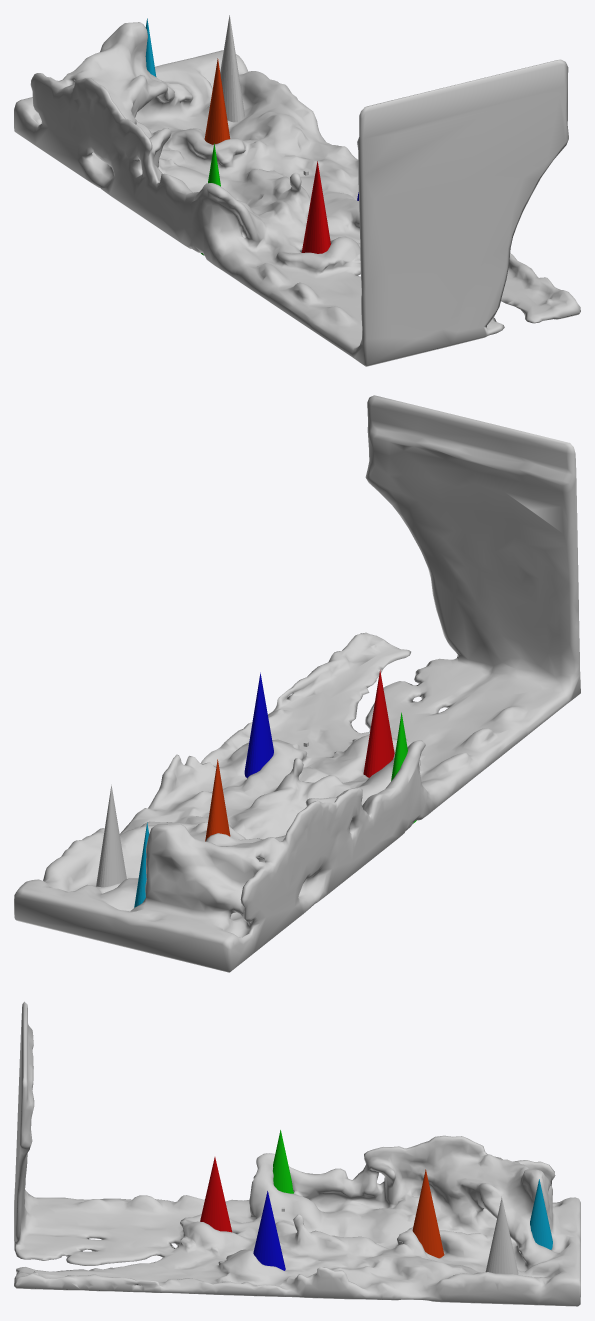
3 renders of one model, top to bottom at view 1: azimuth 30°, elevation 25°; view 2: azimuth 150°, elevation 25°; view 3: azimuth 270°, elevation 25°, orthographic. The views are drawn at different scales.
Parts seen in each view (by area): view 1: Liquid_Domain, 円錐, 円錐.001, 円錐.004; view 2: Liquid_Domain, 円錐.001, 円錐, 円錐.002, 円錐.004; view 3: Liquid_Domain, 円錐.004, 円錐, 円錐.002, 円錐.001, 円錐.005, 円錐.003.
Part boxes in pixels (<box>): Liquid_Domain: <box>14,22,580,366</box>; 円錐: <box>220,15,244,122</box>; 円錐.001: <box>301,161,330,253</box>; 円錐.004: <box>204,58,230,144</box>; Liquid_Domain: <box>14,395,580,972</box>; 円錐.001: <box>363,670,394,777</box>; 円錐: <box>96,784,126,887</box>; 円錐.002: <box>244,672,273,778</box>; 円錐.004: <box>205,759,230,841</box>; Liquid_Domain: <box>14,1001,580,1306</box>; 円錐.004: <box>412,1169,444,1258</box>; 円錐: <box>485,1197,518,1274</box>; 円錐.002: <box>253,1191,285,1270</box>; 円錐.001: <box>200,1157,232,1232</box>; 円錐.005: <box>530,1179,552,1249</box>; 円錐.003: <box>273,1130,293,1193</box>.
Bounding box in the file's own units: 129 × 158 × 361.
